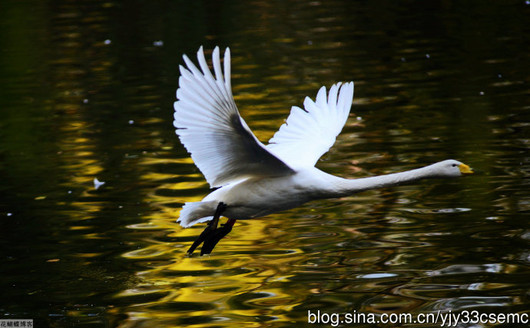bird: (170, 46, 489, 254)
